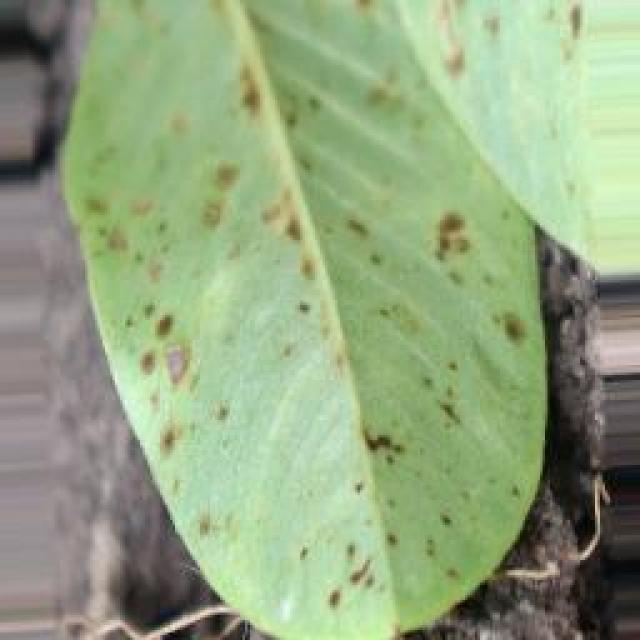Whitefly: (58, 11, 525, 600)
